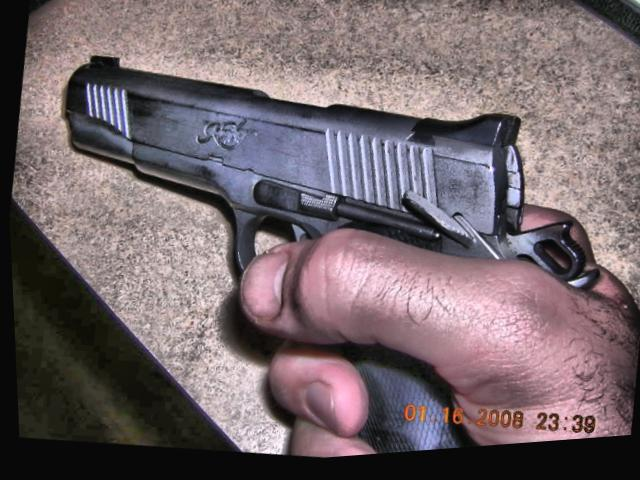pistol: (8, 13, 640, 480)
